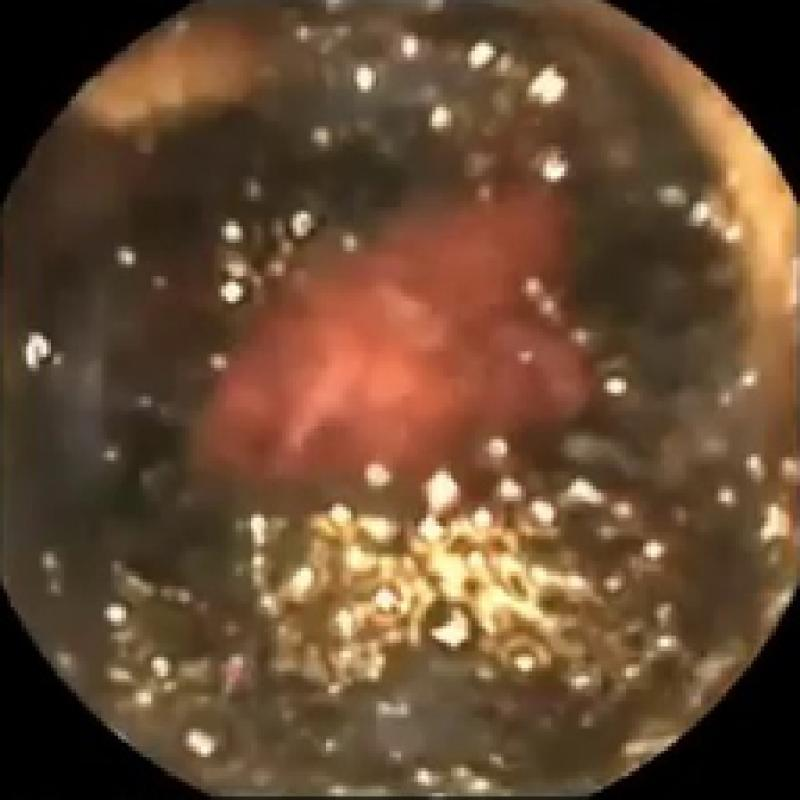bleeding: (196, 196, 596, 478)
